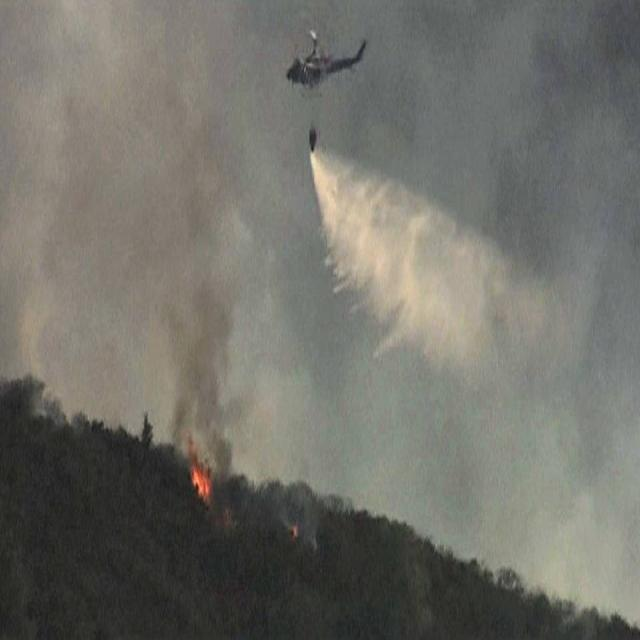Fire: (178, 430, 225, 501)
Smoke: (160, 255, 258, 476)
